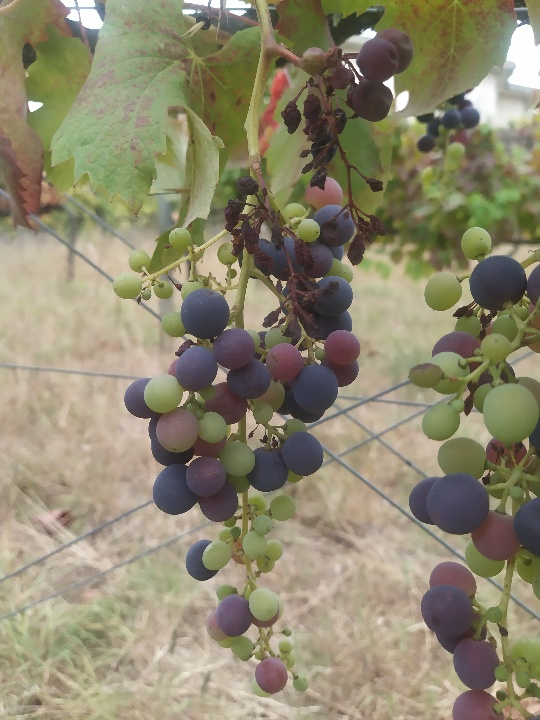grape: (114, 172, 361, 698), (409, 226, 538, 718), (279, 28, 415, 268)
